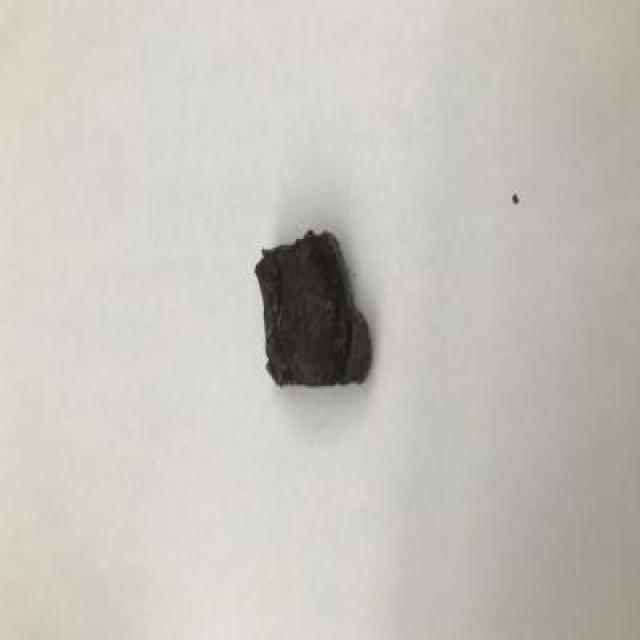compost: (245, 212, 381, 406)
